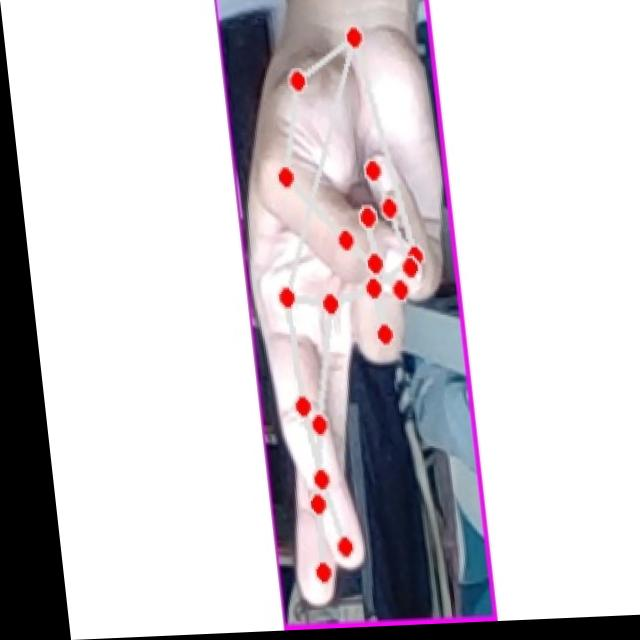R: (229, 3, 473, 622)
